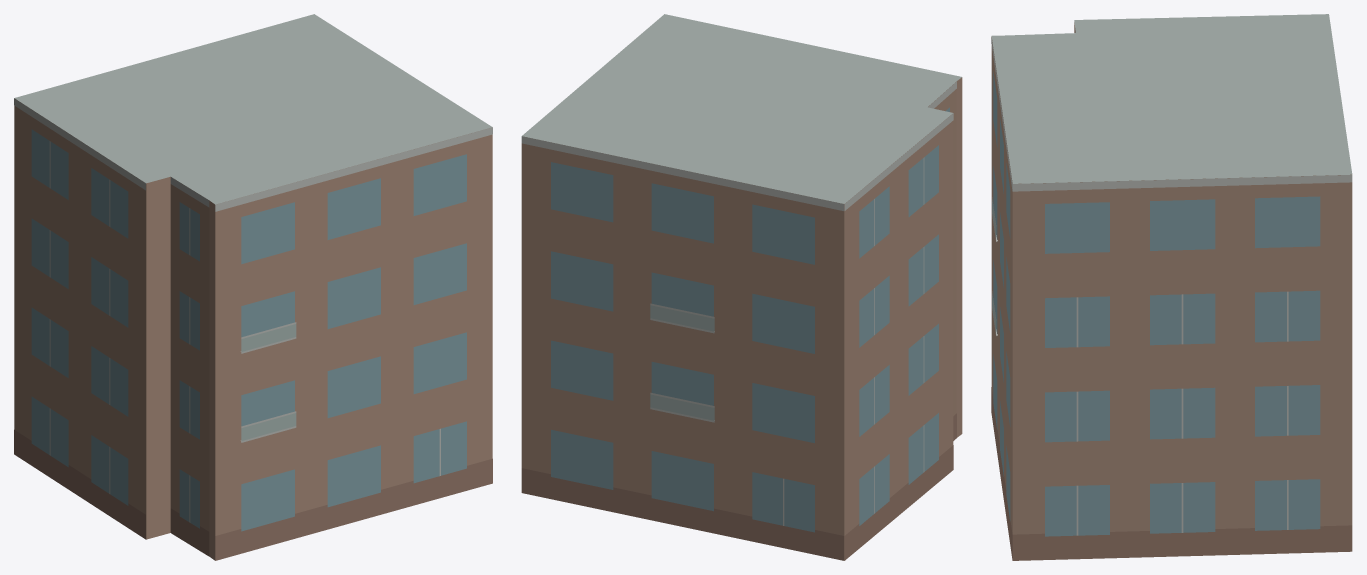
File: survey-upis-32621607.glb
The picture shows the model from 3 angles, left to right: view 1: azimuth 30°, elevation 25°; view 2: azimuth 150°, elevation 25°; view 3: azimuth 270°, elevation 25°; orthographic projection. The views are drawn at different scales.
Parts seen in each view (by area): view 1: survey-upis-32621607.tmp; view 2: survey-upis-32621607.tmp; view 3: survey-upis-32621607.tmp.
Boxes of the visible parts, bbox=[...] form: survey-upis-32621607.tmp: bbox=[14, 14, 492, 560]; survey-upis-32621607.tmp: bbox=[521, 14, 962, 560]; survey-upis-32621607.tmp: bbox=[991, 14, 1352, 560].
Size of the model in its own units: 11.56 by 11.95 by 10.38.
